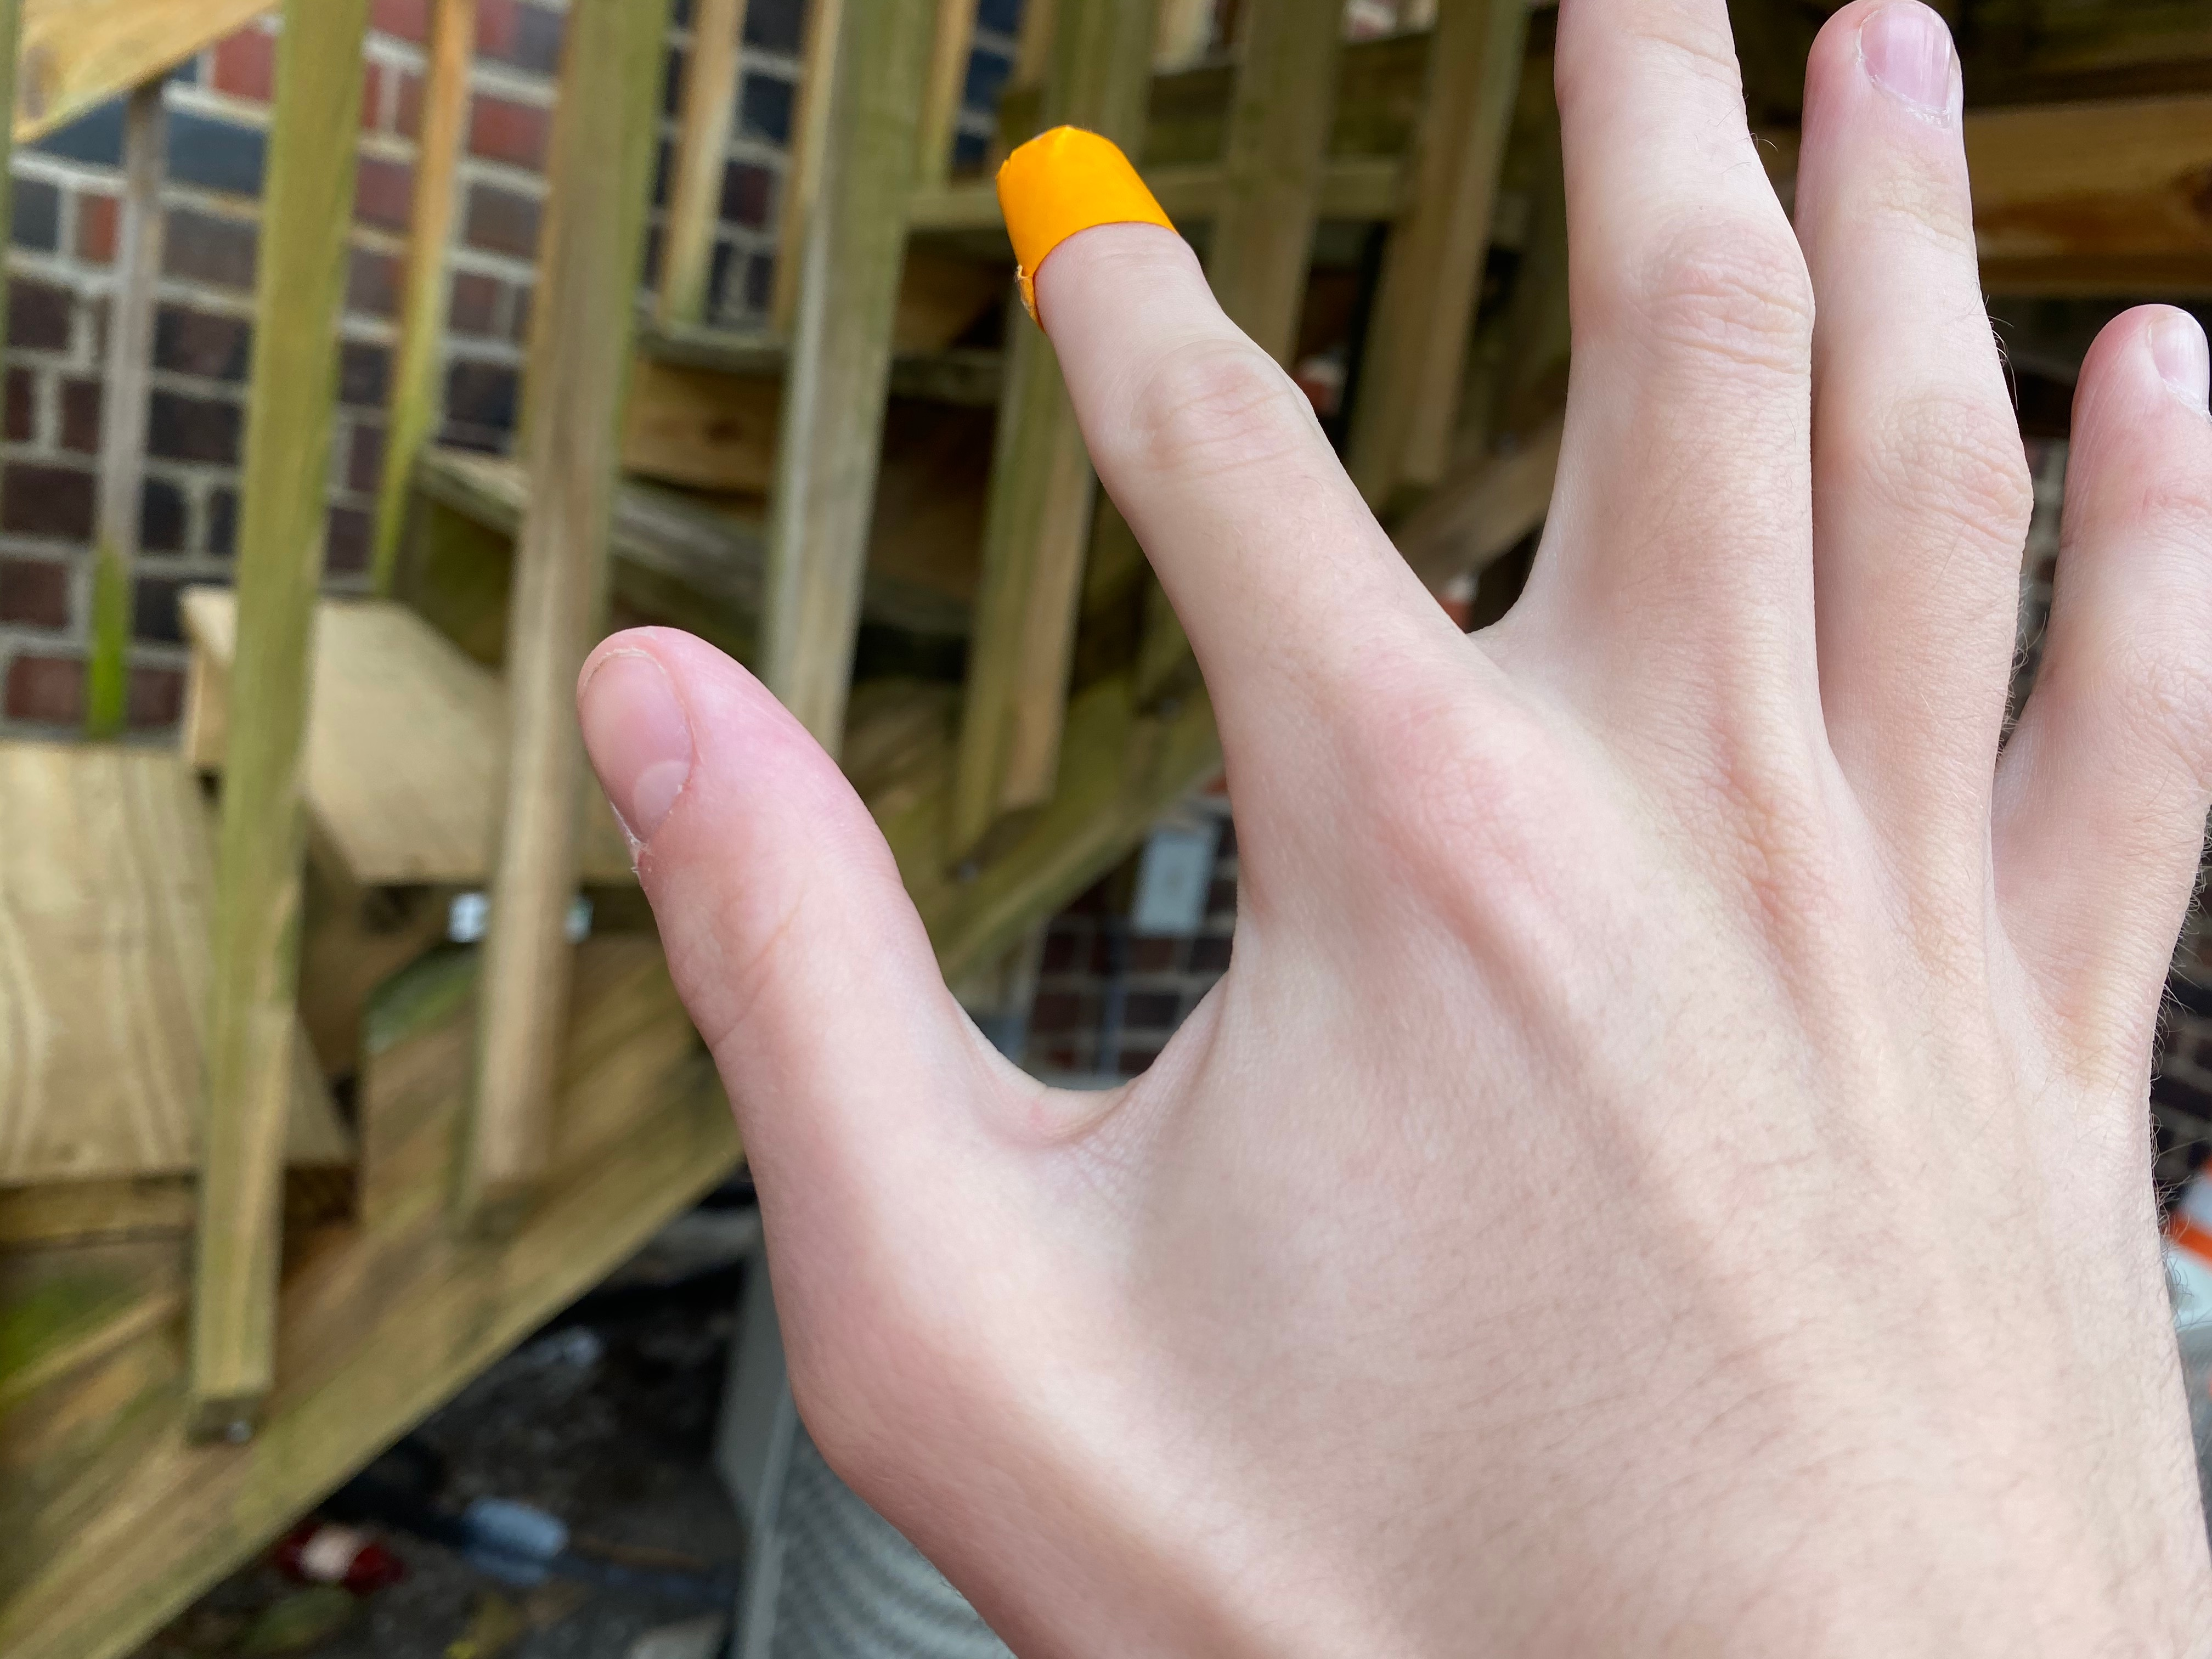fingertip: (989, 113, 1191, 310)
